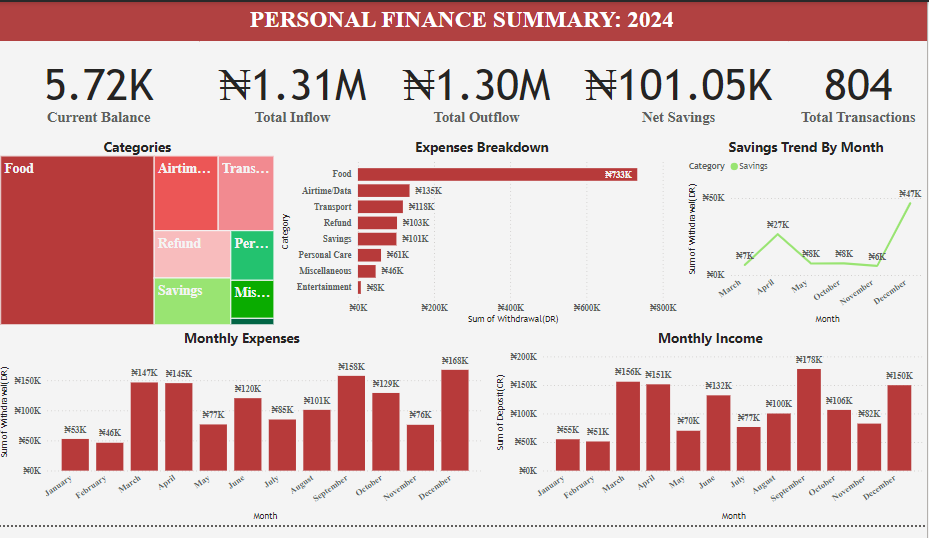

Layout of this report page (visuals, bound fields, positions):
{"tool":"powerbi","page":{"name":"Page 1","canvas":[1280,720],"ordinal":0},"visuals":[{"type":"textbox","box":[0,0,1280,55.1],"z":0},{"type":"card","fields":{"Values":["Sum(Working Sheet.Deposit(CR))"]},"box":[279.4,54.1,254.5,131.7],"z":1000},{"type":"card","fields":{"Values":["Sum(Working Sheet.Withdrawal(DR))"]},"box":[533.9,54.1,251.6,131.7],"z":2000},{"type":"card","fields":{"Values":["CountNonNull(Working Sheet.Transaction Details)"]},"box":[1089.8,54.1,190.2,131.7],"z":3000},{"type":"columnChart","title":"Monthly Expenses","fields":{"Category":["Working Sheet.Year-Month.Variation.Date Hierarchy.Month"],"Y":["Sum(Working Sheet.Withdrawal(DR))"]},"box":[0,449.1,673.6,270.3],"z":4000},{"type":"columnChart","title":"Monthly Income","fields":{"Category":["Working Sheet.Year-Month.Variation.Date Hierarchy.Month"],"Y":["Sum(Working Sheet.Deposit(CR))"]},"box":[682.2,449.1,597.8,270.3],"z":5000},{"type":"lineChart","title":"Savings Trend By Month","fields":{"Category":["Working Sheet.Year-Month.Variation.Date Hierarchy.Month","Working Sheet.Year-Month.Variation.Date Hierarchy.Day"],"Series":["Working Sheet.Category"],"Y":["Sum(Working Sheet.Withdrawal(DR))"]},"box":[946.8,185.9,333.2,263.2],"z":6000},{"type":"card","title":"New ","fields":{"Values":["Sum(Working Sheet.Withdrawal(DR))"]},"box":[785.6,54.1,304.3,131.7],"z":7000},{"type":"barChart","title":"Expenses Breakdown","fields":{"Category":["Working Sheet.Category"],"Y":["Sum(Working Sheet.Withdrawal(DR))"]},"box":[386.1,185.9,560.6,263.2],"z":8000},{"type":"treemap","title":"Categories","fields":{"Group":["Working Sheet.Category"],"Values":["Sum(Working Sheet.Withdrawal(DR))"]},"box":[0,185.9,386.1,263.2],"z":9000},{"type":"card","fields":{"Values":["Working Sheet.Current Balance"]},"box":[0,54.1,279.4,131.7],"z":10000}]}

Visuals, with their boxes in screenshot pixels (x1, y1, x2, y2), scaled from the page's 1280x720 canvas onto the 929x538 screenshot:
textbox: [0,0,928,41]
card - Sum(Working Sheet.Deposit(CR)): [203,40,387,139]
card - Sum(Working Sheet.Withdrawal(DR)): [387,40,570,139]
card - CountNonNull(Working Sheet.Transaction Details): [791,40,928,139]
"Monthly Expenses" columnChart: [0,336,489,537]
"Monthly Income" columnChart: [495,336,928,537]
"Savings Trend By Month" lineChart: [687,139,928,336]
"New " card: [570,40,791,139]
"Expenses Breakdown" barChart: [280,139,687,336]
"Categories" treemap: [0,139,280,336]
card - Working Sheet.Current Balance: [0,40,203,139]
